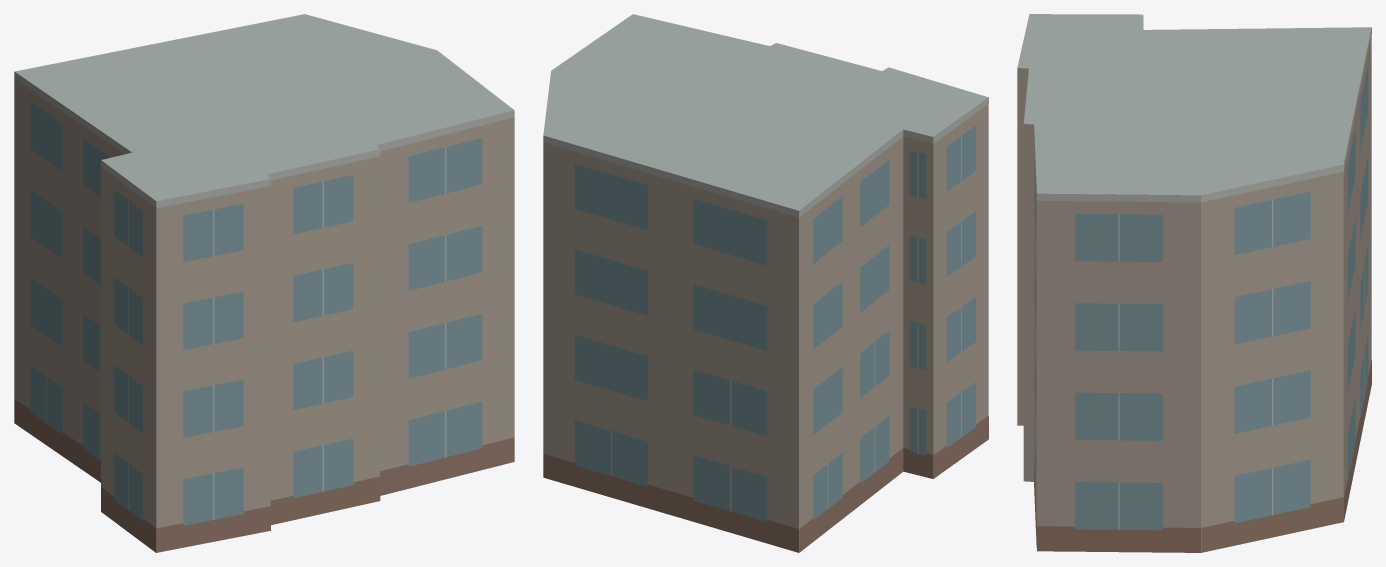
File: survey-upis-32608089.glb
The picture shows the model from 3 angles, left to right: view 1: azimuth 30°, elevation 25°; view 2: azimuth 150°, elevation 25°; view 3: azimuth 270°, elevation 25°; orthographic projection. The views are drawn at different scales.
Visible parts, largest first — view 1: survey-upis-32608089.tmp; view 2: survey-upis-32608089.tmp; view 3: survey-upis-32608089.tmp.
Boxes of the visible parts, x1,y1,x2,y2 form: survey-upis-32608089.tmp: (14, 14, 514, 552); survey-upis-32608089.tmp: (543, 14, 988, 552); survey-upis-32608089.tmp: (1017, 14, 1371, 552).
Bounding box in the file's own units: 13.28 × 12.2 × 10.97.
